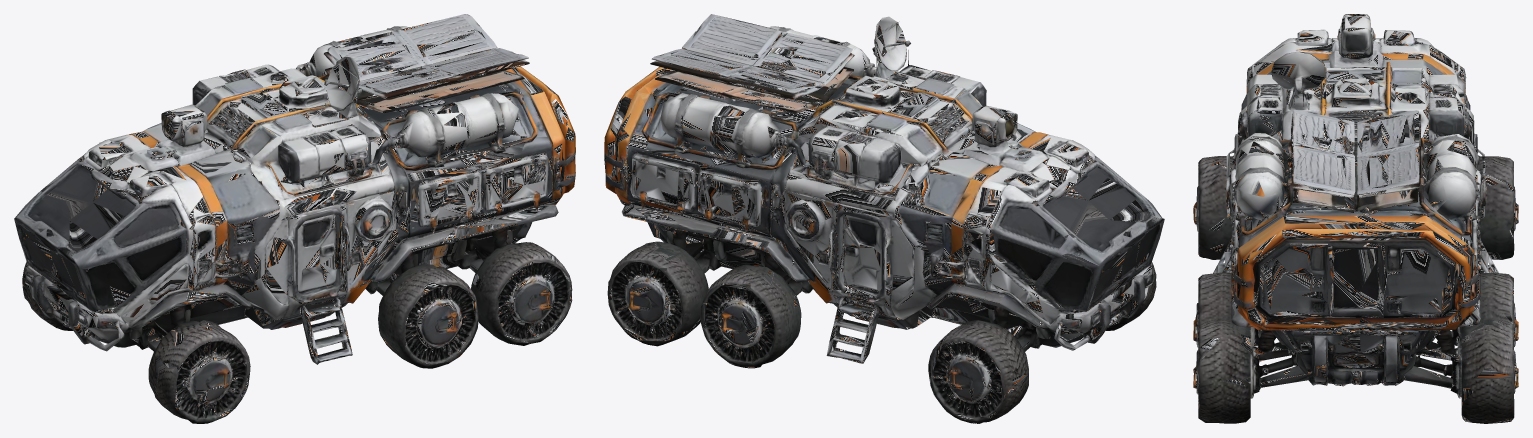
3 renders of one model, left to right at view 1: azimuth 30°, elevation 25°; view 2: azimuth 150°, elevation 25°; view 3: azimuth 270°, elevation 25°, orthographic. The views are drawn at different scales.
Parts seen in each view (by area): view 1: tripo_node_3e99cf20-69f0-4cbf-bd48-f78b5c75b706; view 2: tripo_node_3e99cf20-69f0-4cbf-bd48-f78b5c75b706; view 3: tripo_node_3e99cf20-69f0-4cbf-bd48-f78b5c75b706.
Part boxes in pixels (x1,y1,x2,y2): tripo_node_3e99cf20-69f0-4cbf-bd48-f78b5c75b706: (14, 14, 575, 423); tripo_node_3e99cf20-69f0-4cbf-bd48-f78b5c75b706: (604, 14, 1164, 423); tripo_node_3e99cf20-69f0-4cbf-bd48-f78b5c75b706: (1193, 14, 1518, 423).
Size of the model in its own units: 0.9805 by 0.561 by 0.5535.
Materials: 1 (1 with a texture image).
